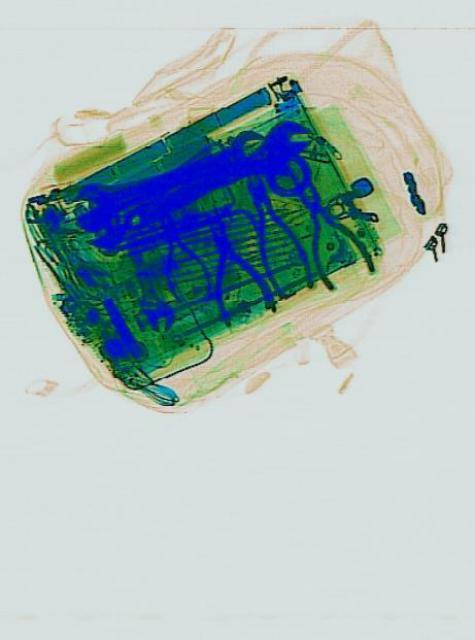Pliers: (271, 148, 376, 302), (230, 157, 315, 305), (187, 203, 276, 335), (147, 212, 214, 314)
Wrench: (91, 108, 312, 250), (65, 122, 270, 234), (115, 230, 176, 336)
